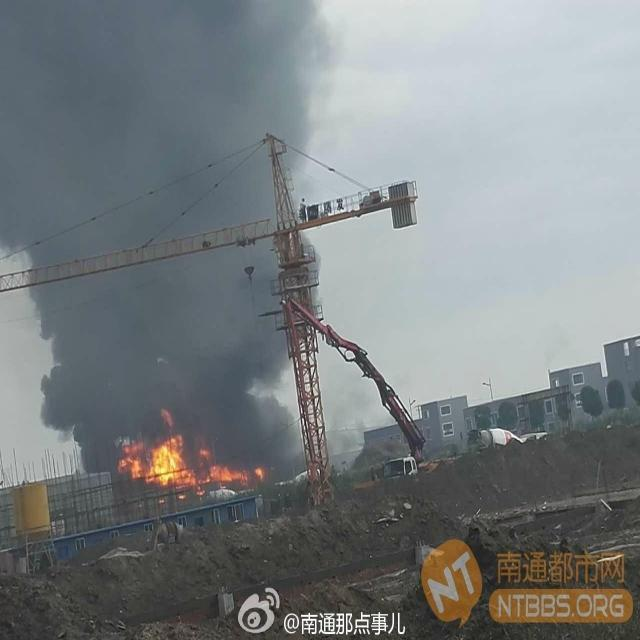Fire: (117, 409, 266, 503)
Smoke: (0, 1, 314, 444)
